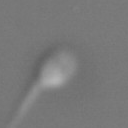normal: (1, 82, 41, 128)
